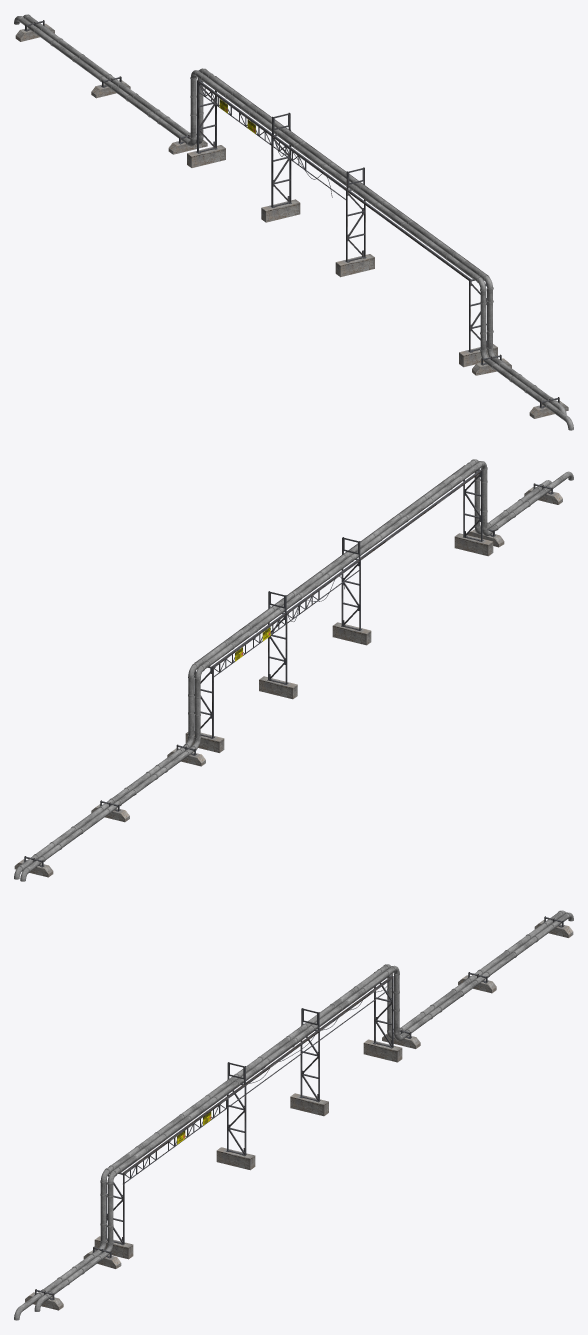
Rendered from Tubes.FBX.
3 renders of one model, top to bottom at view 1: azimuth 30°, elevation 25°; view 2: azimuth 150°, elevation 25°; view 3: azimuth 330°, elevation 25°, orthographic.
Visible parts, largest first — view 1: Cylinder021, Line003, Box172; view 2: Cylinder021, Line003, Box172; view 3: Cylinder021, Line003, Box172.
Part boxes in pixels (x1,y1,x2,y2): Cylinder021: (14, 14, 573, 430); Line003: (24, 20, 560, 408); Box172: (15, 23, 568, 418); Cylinder021: (14, 459, 573, 881); Line003: (24, 465, 553, 867); Box172: (14, 487, 562, 877); Cylinder021: (14, 910, 573, 1320); Line003: (34, 916, 563, 1300); Box172: (25, 920, 573, 1310).
Size of the model in its own units: 83.35 by 227 by 2263.
6 materials, 6 textured.
